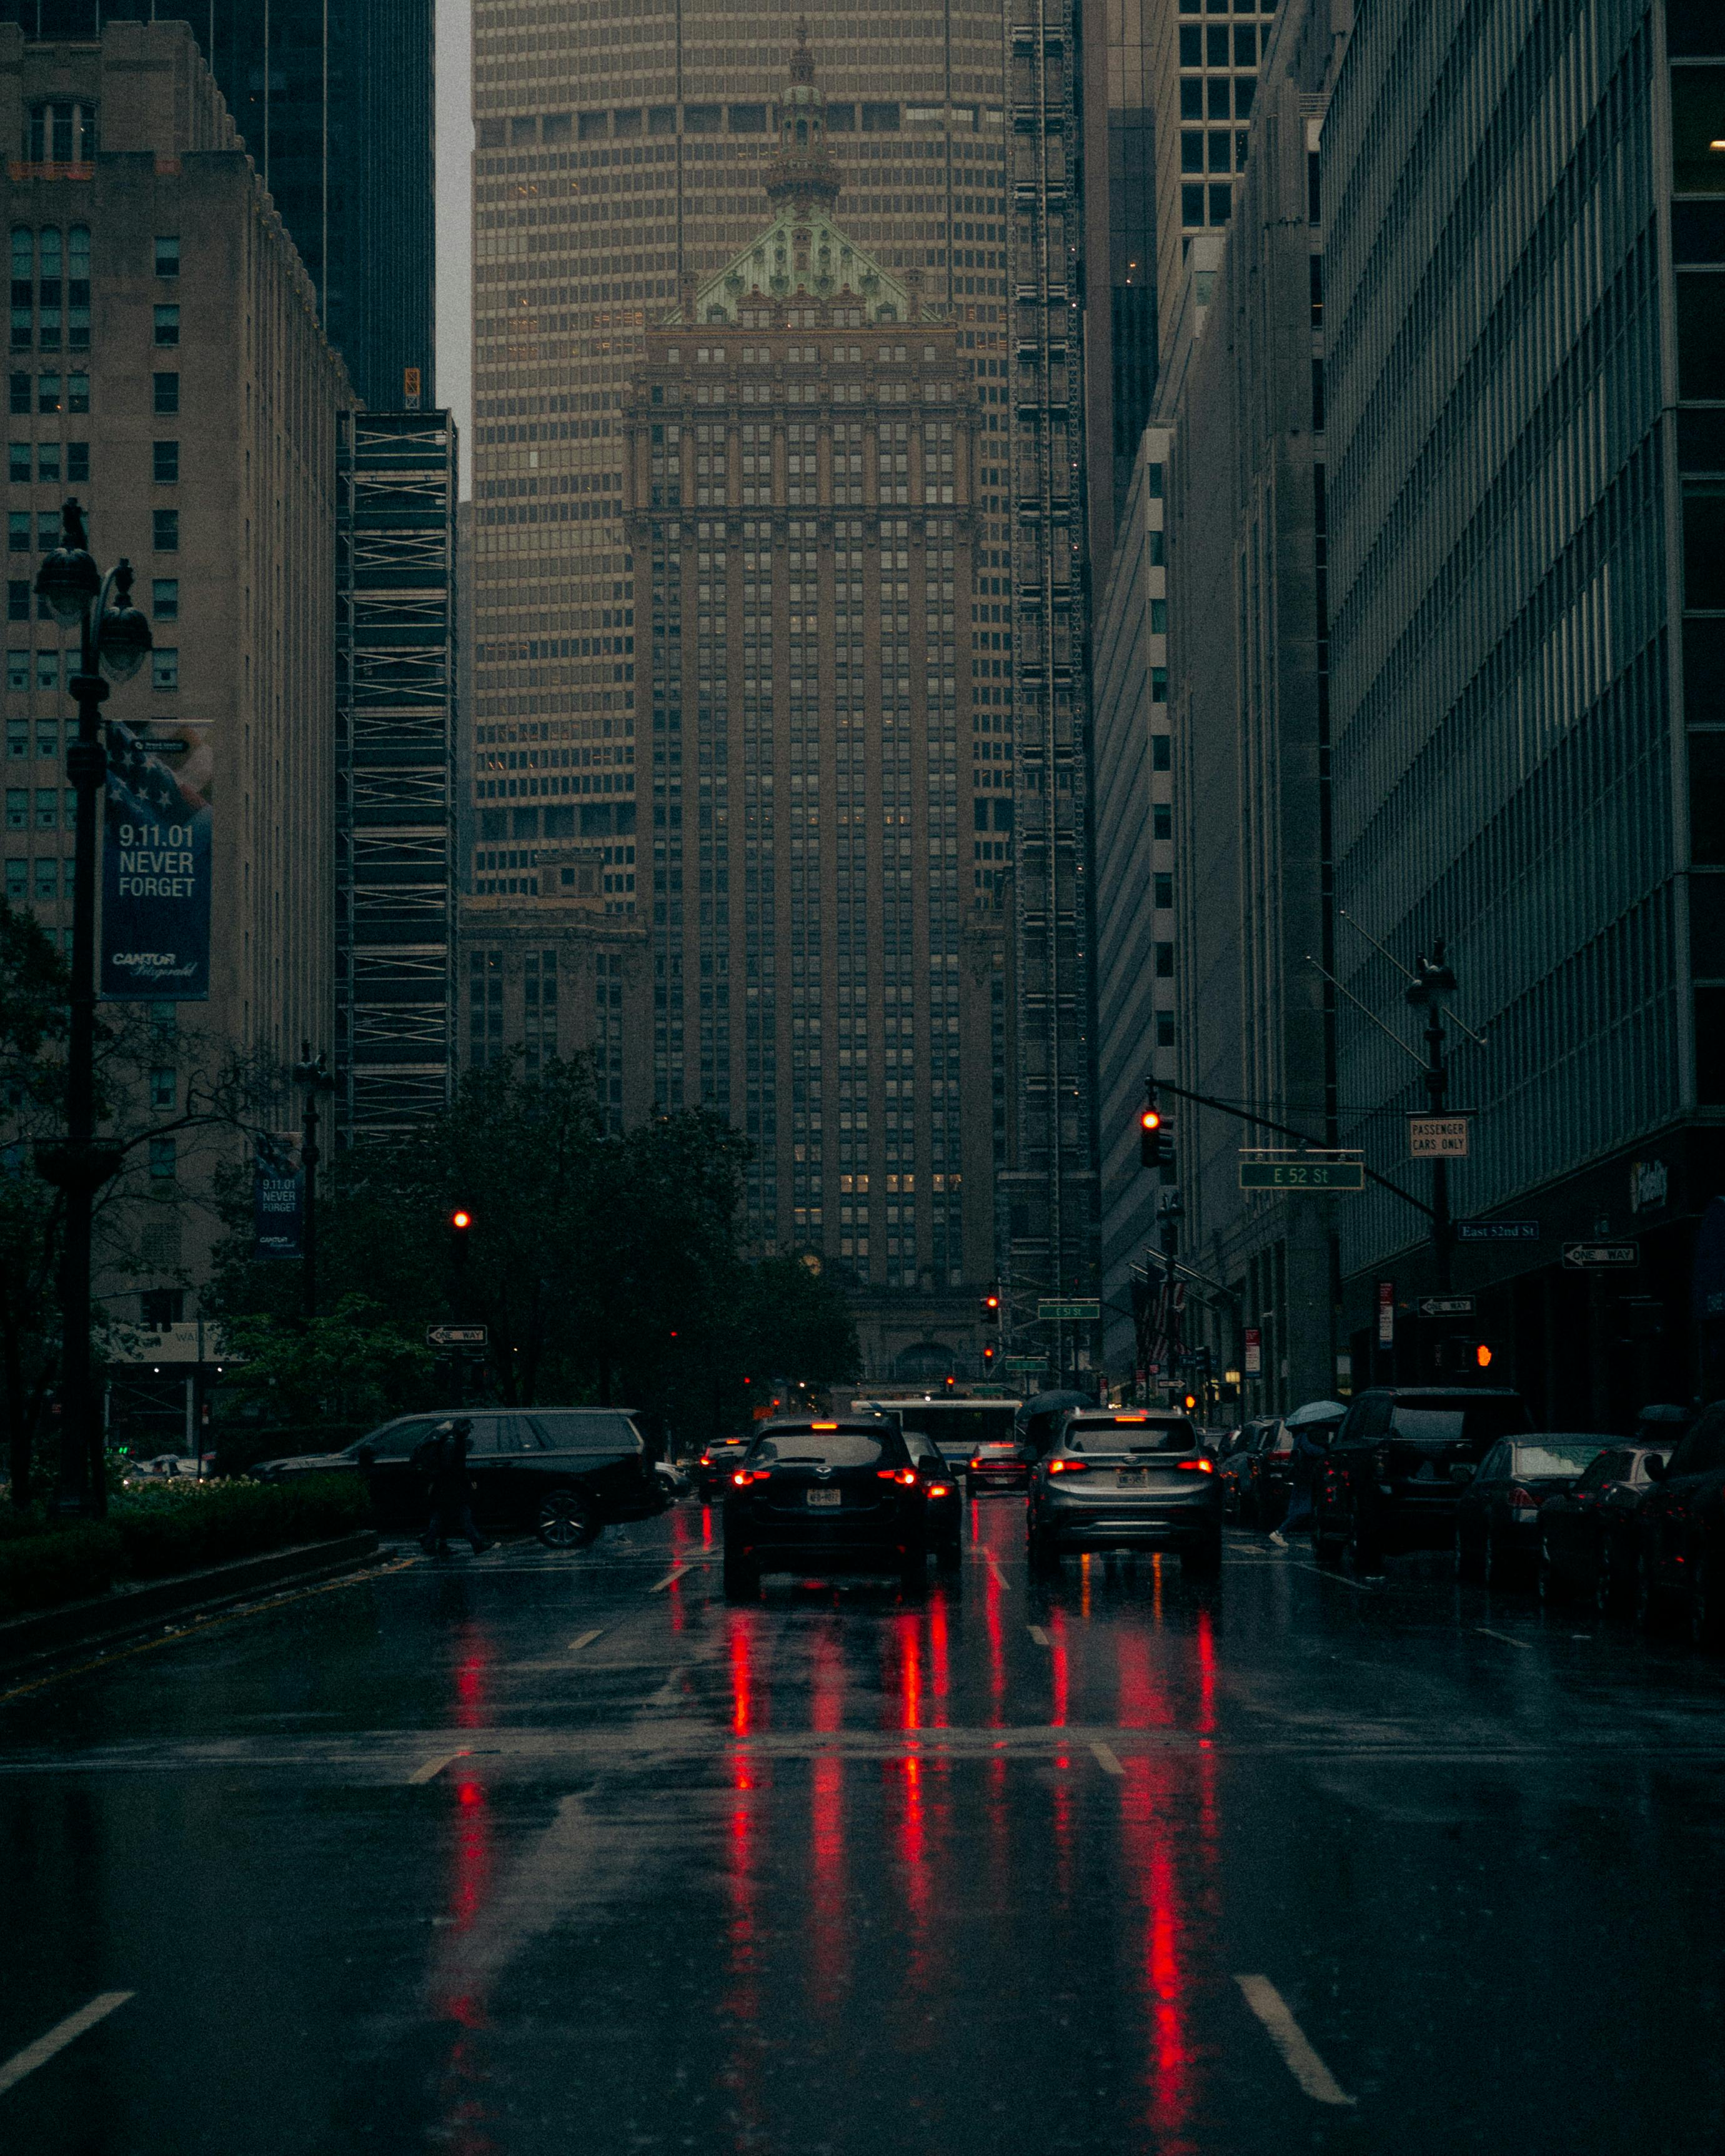Vehicle: (250, 1408, 669, 1549), (1540, 1415, 1725, 1646), (723, 1422, 961, 1591), (1315, 1392, 1480, 1568), (1457, 1433, 1626, 1588), (1030, 1413, 1218, 1545), (1218, 1404, 1345, 1529), (852, 1390, 1019, 1473), (970, 1441, 1023, 1470)
